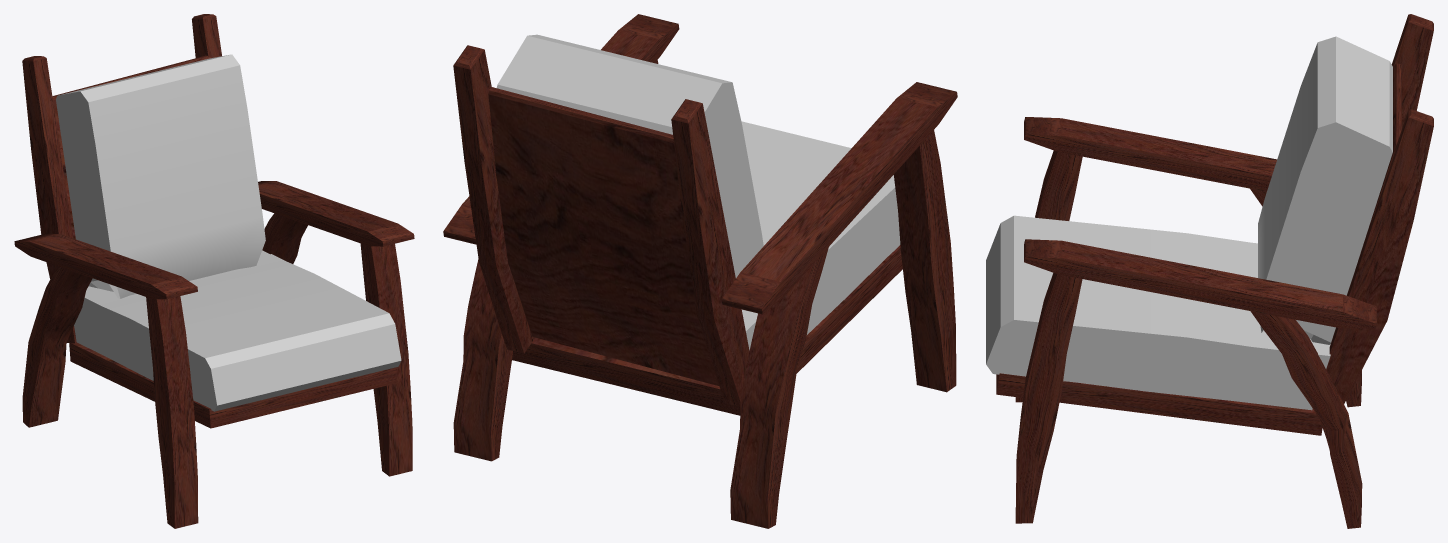
Rendered from ChairModeled.FBX.
3 renders of one model, left to right at view 1: azimuth 30°, elevation 25°; view 2: azimuth 150°, elevation 25°; view 3: azimuth 270°, elevation 25°, orthographic. The views are drawn at different scales.
Visible parts, largest first — view 1: Object001; view 2: Object001; view 3: Object001.
Boxes of the visible parts, x1,y1,x2,y2 form: Object001: (14, 14, 414, 528); Object001: (443, 14, 957, 528); Object001: (986, 14, 1433, 528).
Size of the model in its own units: 0.8355 by 1.1 by 1.13.
